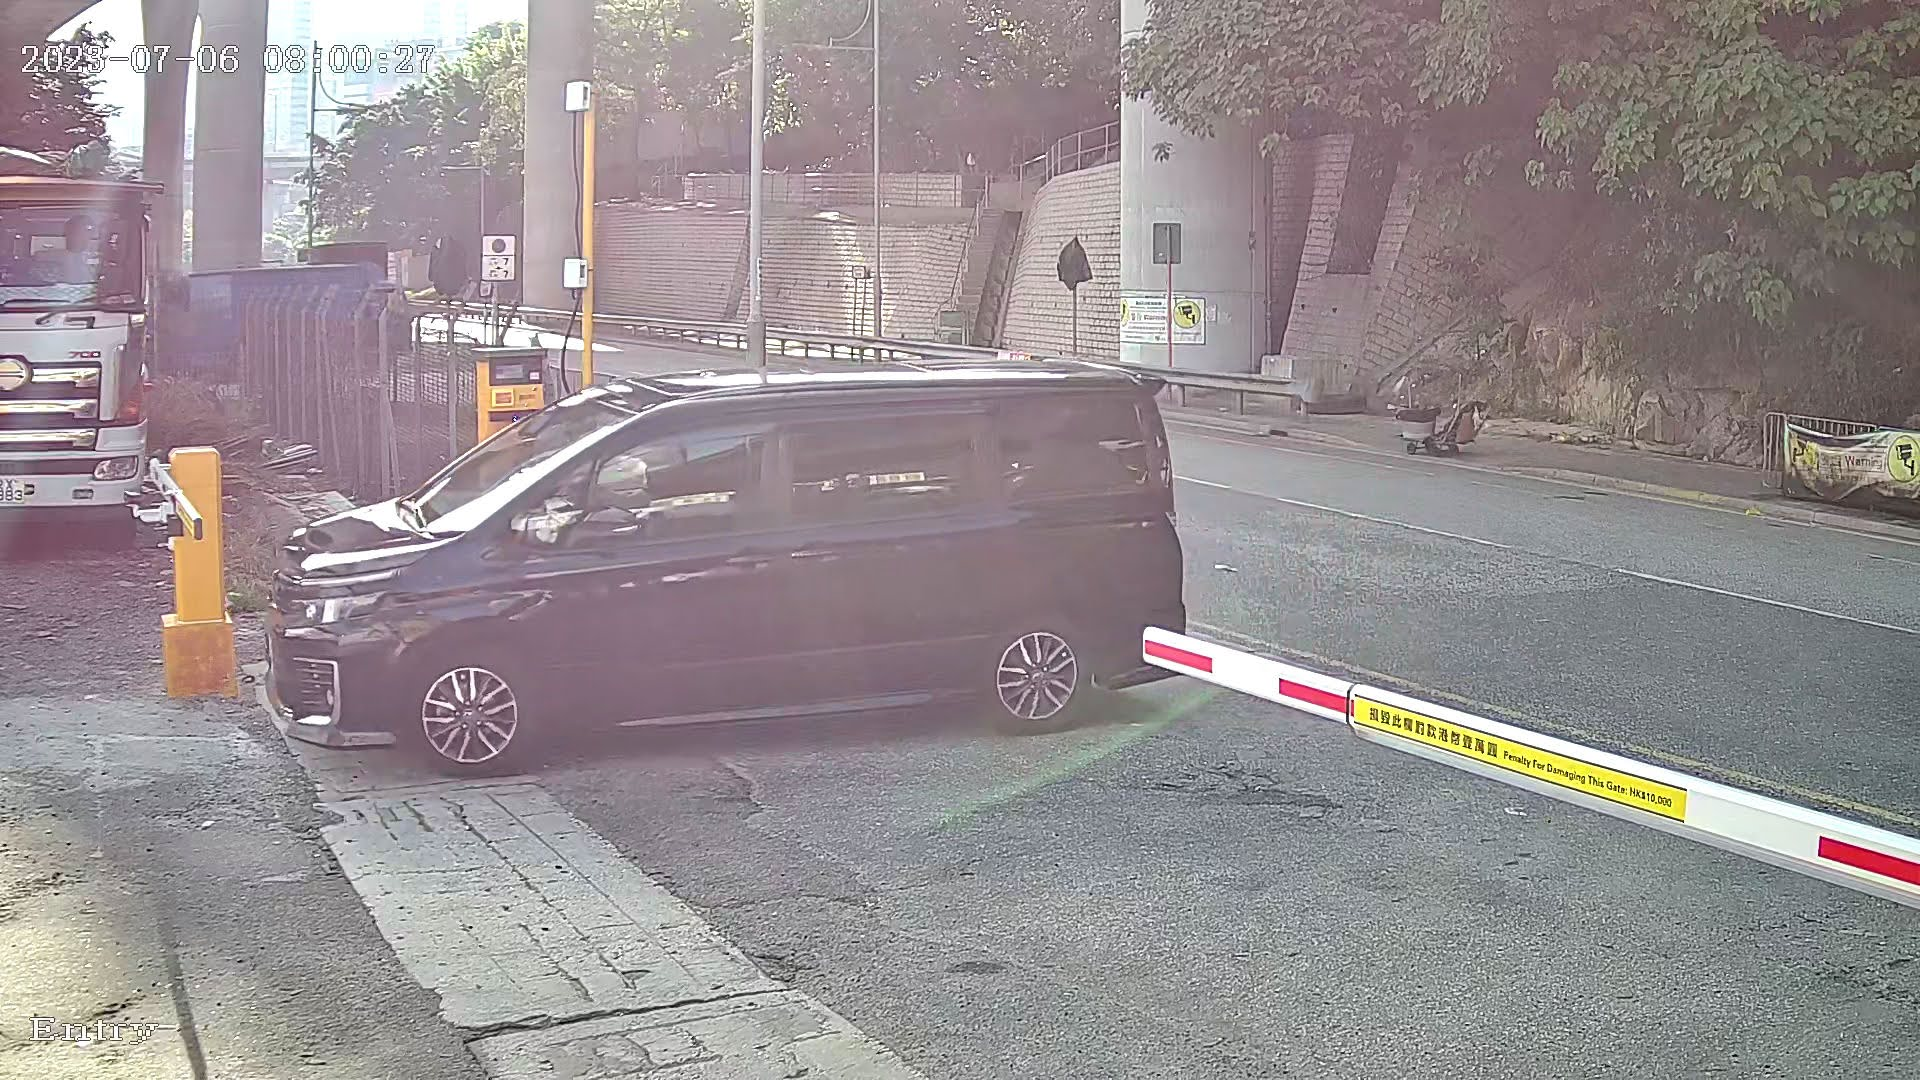privatecar: (261, 302, 1204, 818)
